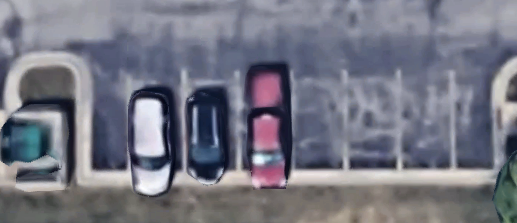Occupied: (129, 70, 184, 176), (185, 71, 239, 175), (238, 71, 292, 175)
Vacant: (291, 71, 346, 174), (344, 71, 399, 172), (399, 71, 452, 171), (84, 70, 131, 177), (451, 72, 497, 170)
